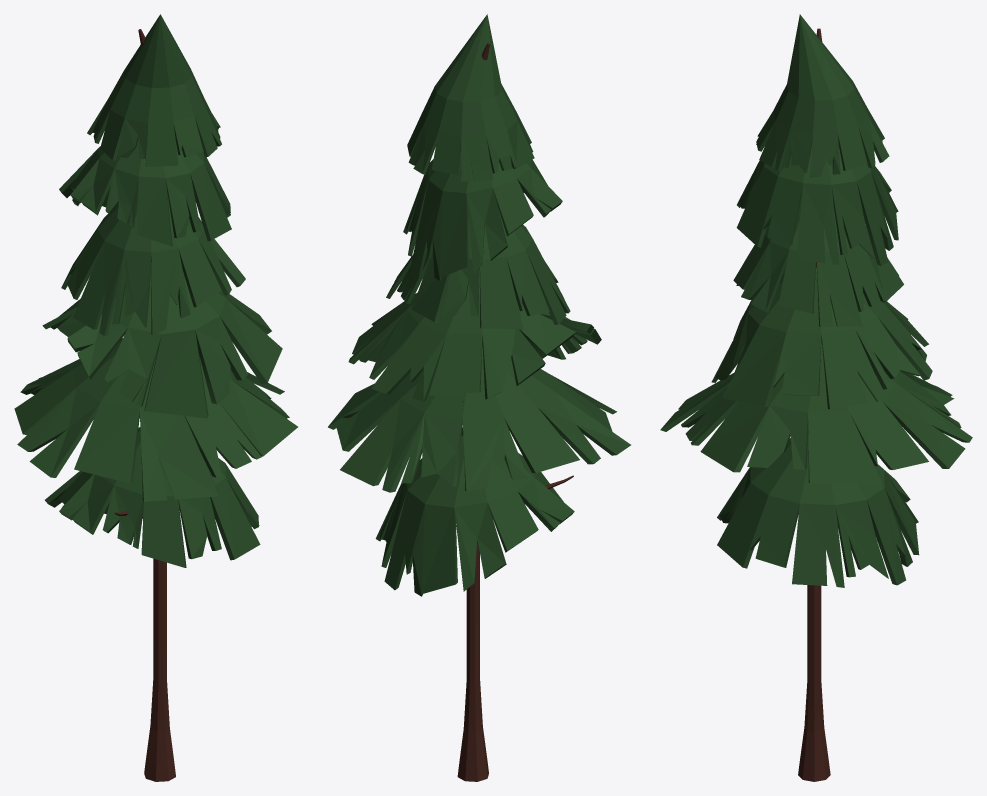
Rendered from SM_tree_conifer_04.fbx.
The picture shows the model from 3 angles, left to right: view 1: azimuth 30°, elevation 25°; view 2: azimuth 150°, elevation 25°; view 3: azimuth 270°, elevation 25°; orthographic projection.
Visible parts, largest first — view 1: Line117; view 2: Line117; view 3: Line117.
Part boxes in pixels (x1,y1,x2,y2): Line117: [14, 14, 297, 781]; Line117: [328, 14, 630, 781]; Line117: [660, 14, 972, 781].
Size of the model in its own units: 132 by 372 by 139.
